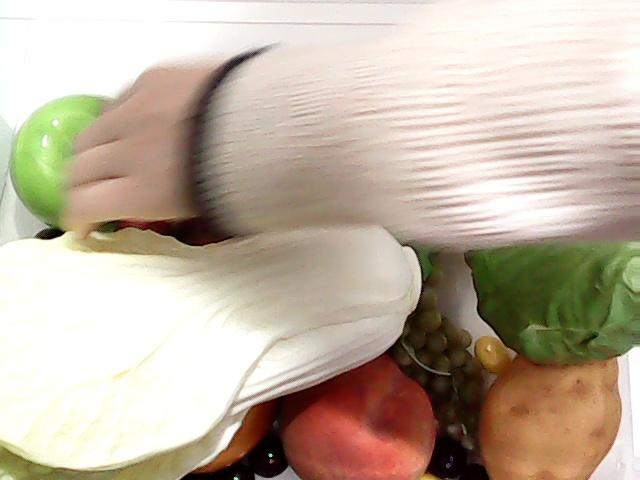apple: (3, 78, 141, 238)
cabbage: (472, 144, 640, 377)
grape: (409, 280, 486, 480)
lemon: (154, 398, 274, 476)
napa cabbage: (0, 226, 426, 480)
peach: (278, 348, 438, 480)
potato: (478, 346, 624, 480)
